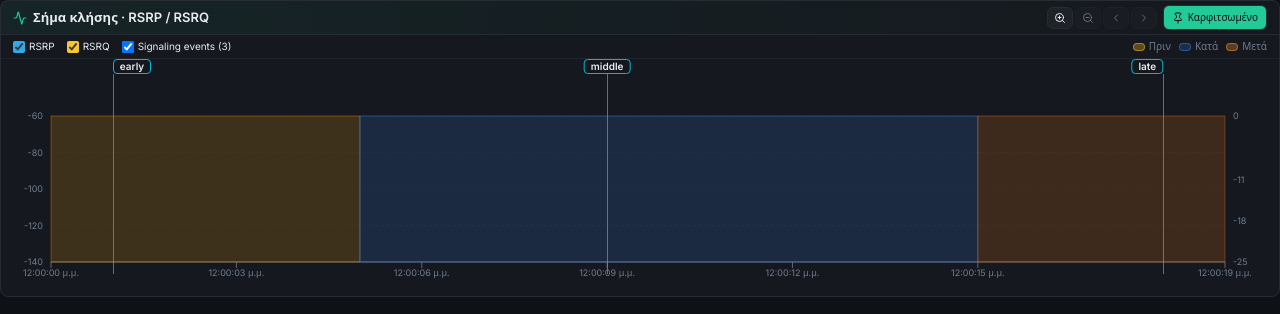
it: CallSignalChart › zooms with the toolbar: event labels re-spread over the window and reset brings it all back
Expected: the button named "Zoom out" is disabled, [1075,6,1101,28]
Click the button named "Zoom in" at x=1060, y=18, box [1047,6,1073,28]
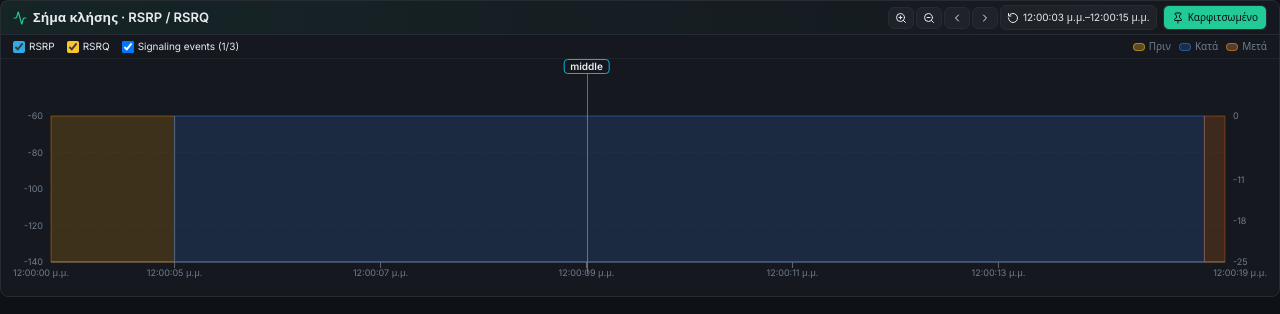
Expected: the button "middle" is shown, [563,59,610,74]
Result: the button "early" is gone
Result: the button "late" is gone
Click the button named "Επαναφορά zoom" at x=1078, y=18, box [1000,5,1157,30]
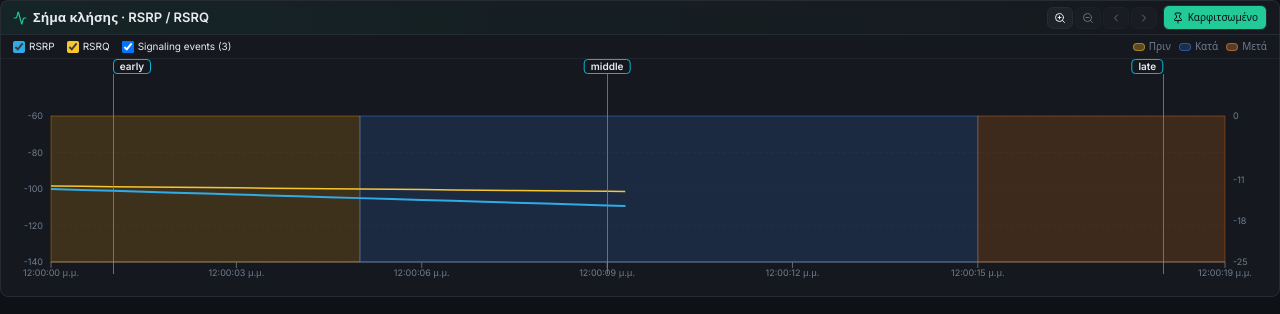
Result: the button "early" is shown at [113,59,151,74]
Result: the button "late" is shown at [1132,59,1163,74]
Result: the button named "Zoom out" is disabled at [1075,6,1101,28]
